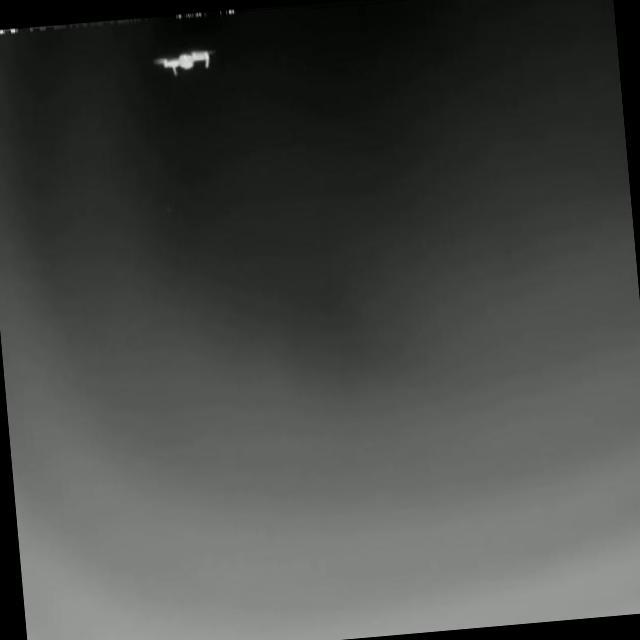DRONE: (150, 49, 218, 77)
